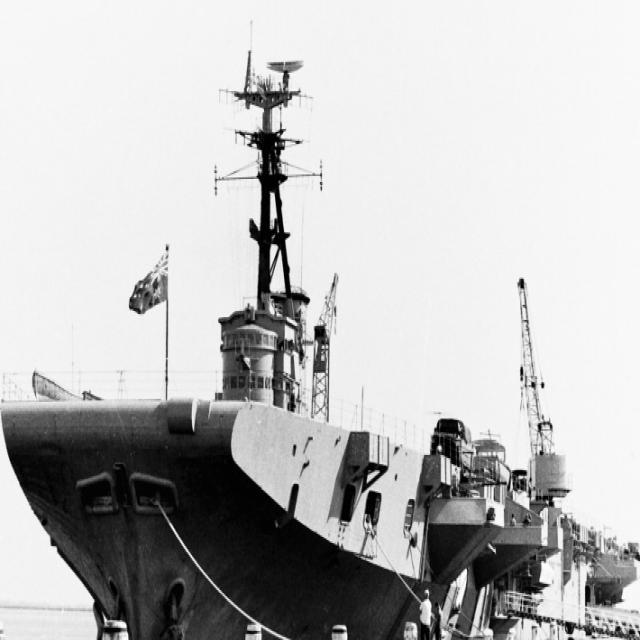Portanaves: (1, 39, 640, 640)
